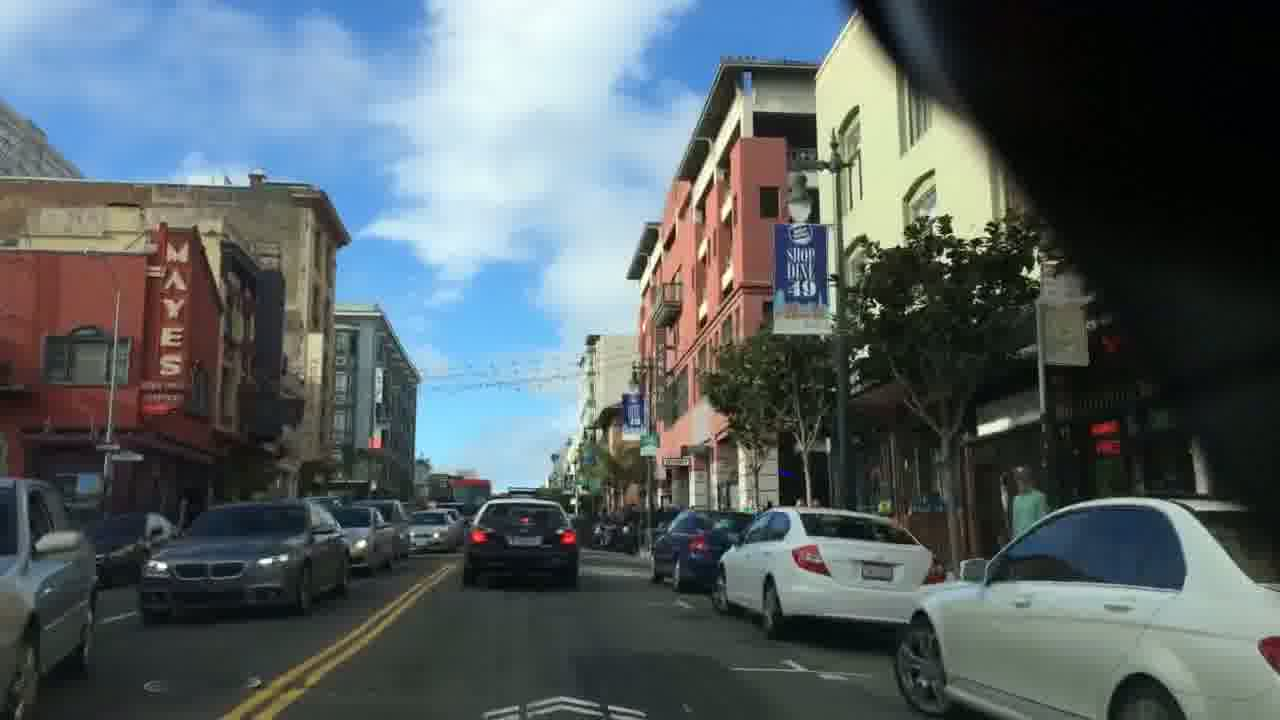car: (893, 495, 1280, 719), (709, 505, 942, 640), (136, 496, 350, 625), (0, 474, 99, 719), (460, 496, 579, 590), (648, 508, 757, 593), (331, 502, 398, 573), (404, 509, 456, 553)
pedestrian: (1008, 461, 1049, 542)
